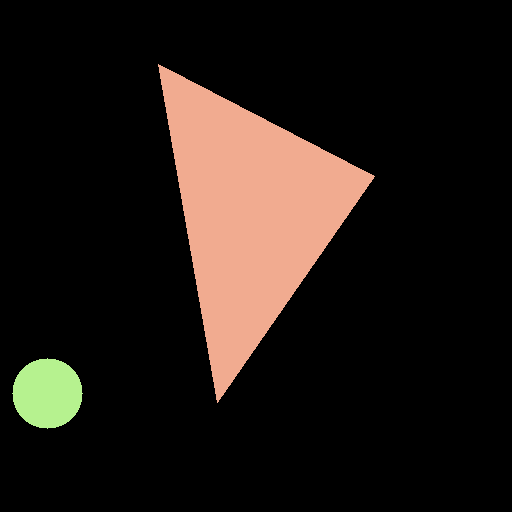circle: (12, 358, 82, 428)
triangle: (158, 64, 374, 402)
